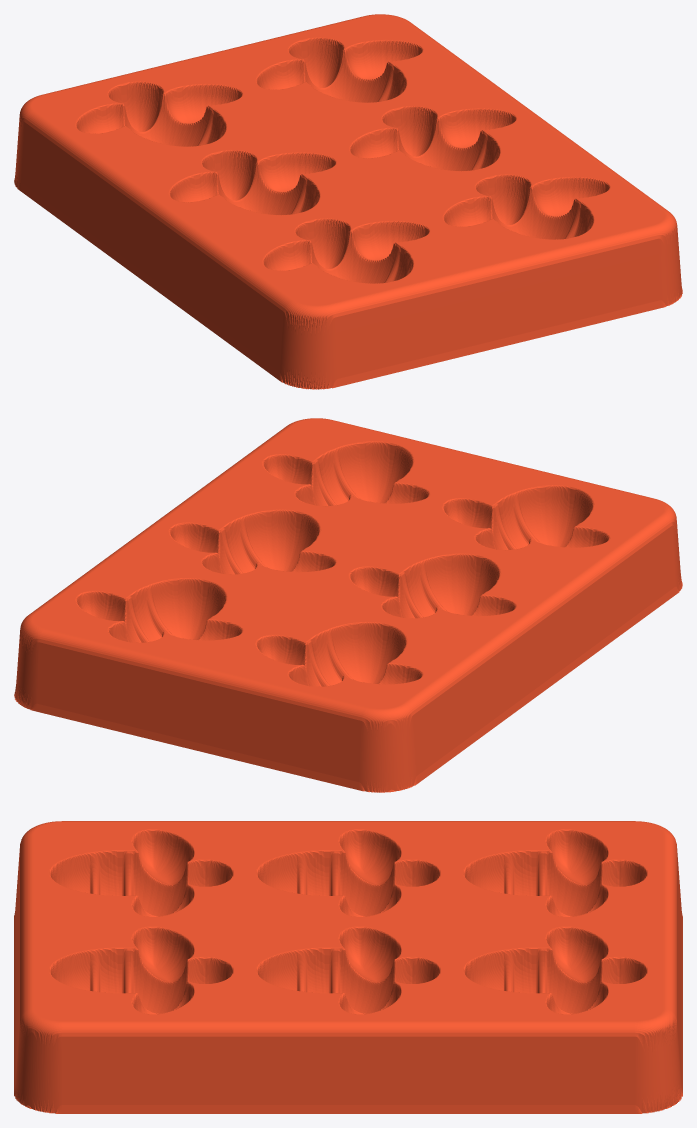
File: mold.glb
The picture shows the model from 3 angles, top to bottom: view 1: azimuth 30°, elevation 25°; view 2: azimuth 150°, elevation 25°; view 3: azimuth 270°, elevation 25°; orthographic projection. The views are drawn at different scales.
Parts seen in each view (by area): view 1: geometry_0; view 2: geometry_0; view 3: geometry_0.
Boxes of the visible parts, x1,y1,x2,y2 form: geometry_0: [14, 14, 682, 389]; geometry_0: [14, 418, 682, 792]; geometry_0: [14, 821, 682, 1113].
Size of the model in its own units: 0.0955 by 0.0175 by 0.1255.
